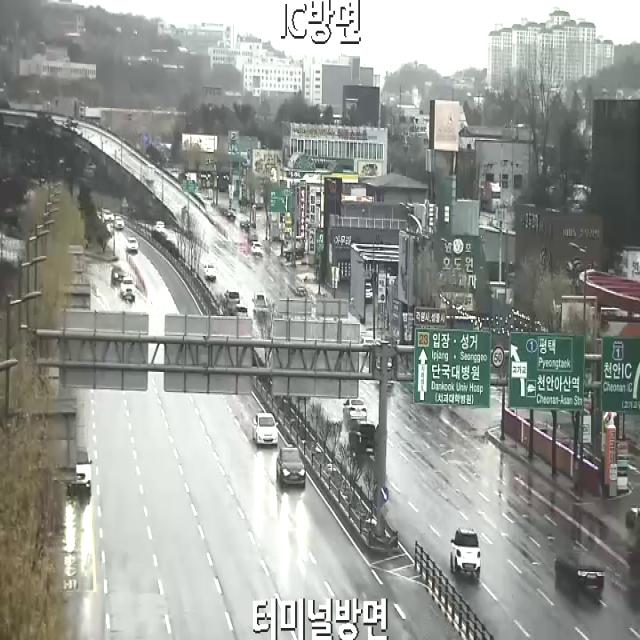Car: (555, 554, 604, 592), (450, 528, 480, 570), (277, 448, 305, 486), (66, 448, 92, 488), (349, 421, 376, 454), (253, 413, 278, 444), (343, 398, 366, 421), (224, 289, 240, 312), (121, 277, 135, 298), (112, 267, 126, 282), (204, 264, 217, 280), (102, 209, 114, 223), (126, 238, 138, 252), (235, 304, 247, 318), (252, 241, 263, 256), (114, 217, 124, 229), (366, 284, 373, 301), (361, 337, 374, 346), (297, 286, 307, 296), (240, 220, 250, 230), (156, 222, 164, 233), (227, 210, 236, 218), (387, 382, 394, 391)
Truck: (252, 294, 269, 314)
